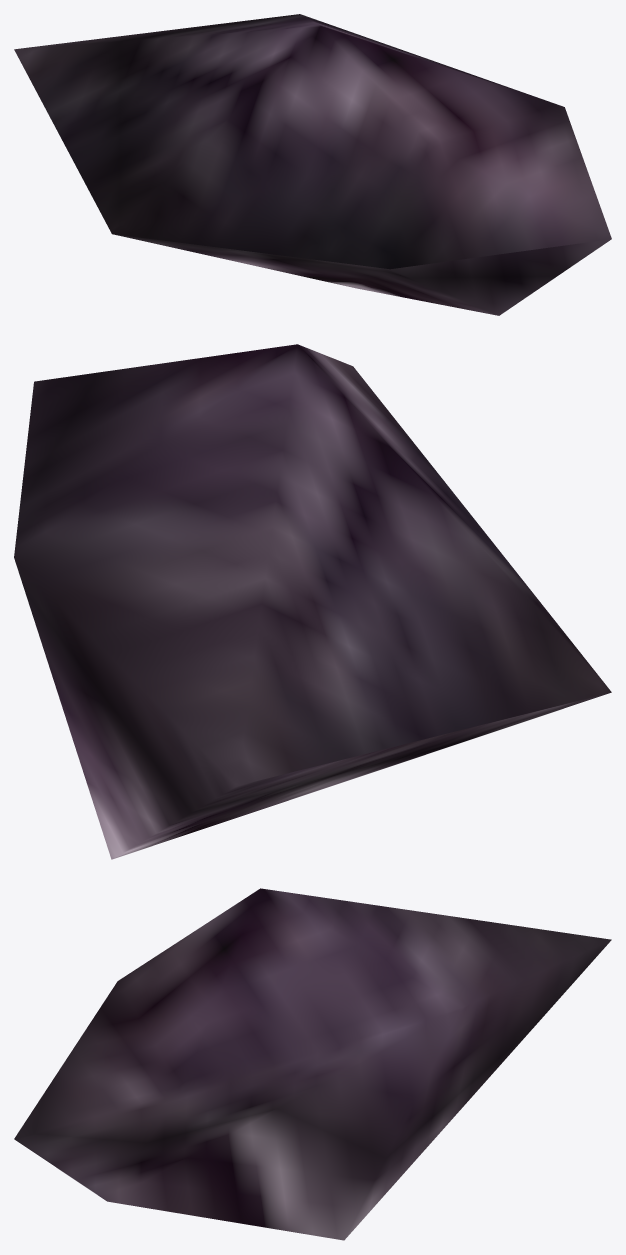
Rendered from condra_7_stone_4.glb.
The picture shows the model from 3 angles, top to bottom: view 1: azimuth 30°, elevation 25°; view 2: azimuth 150°, elevation 25°; view 3: azimuth 270°, elevation 25°; orthographic projection. The views are drawn at different scales.
Parts seen in each view (by area): view 1: model_condra_7_stone_4; view 2: model_condra_7_stone_4; view 3: model_condra_7_stone_4.
Part boxes in pixels (bbox=[...]): model_condra_7_stone_4: bbox=[14, 14, 611, 315]; model_condra_7_stone_4: bbox=[14, 344, 611, 859]; model_condra_7_stone_4: bbox=[14, 888, 611, 1240].
Size of the model in its own units: 0.1765 by 0.1286 by 0.2212.
Materials: 1 (1 with a texture image).
